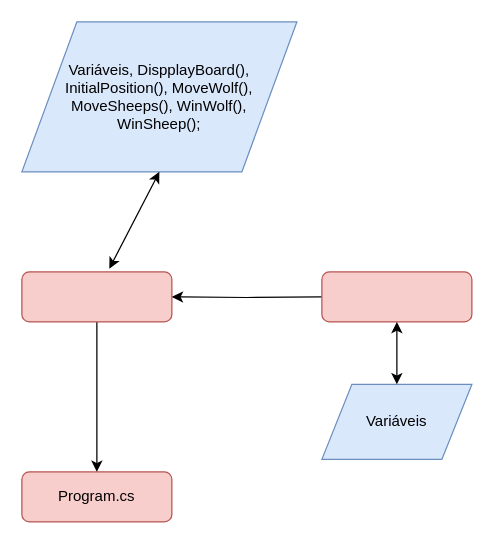
Image size: 494x544. Some labels were removed from this diagram. Each missing label, with the centre of its shape:
"BOARD.cs" goes at (x=96, y=296).
"Symbols.cs" goes at (x=396, y=296).
